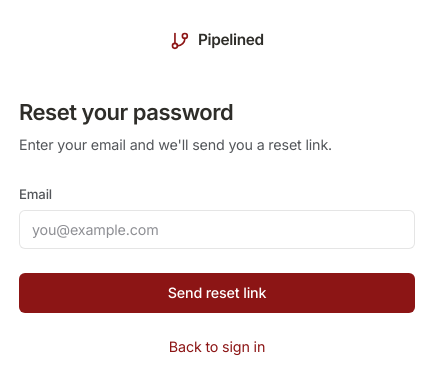
Test case: ForgotPassword › should show error when email is empty on submit
Click the button "Send reset link" at (217, 293), box 19,273 -> 415,313
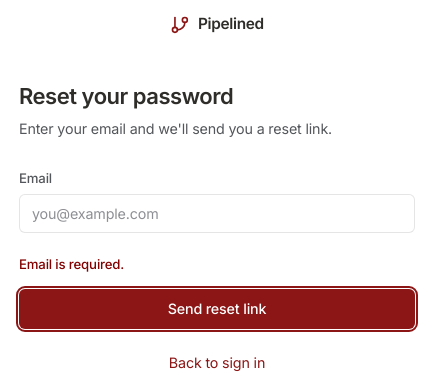
Check: the message reads "Email is required.", box 19,256 -> 124,272
